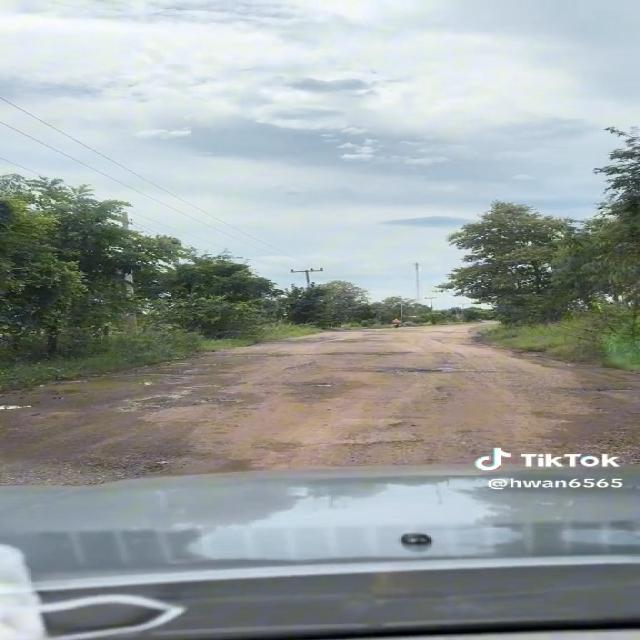Poth-hole: (308, 394, 505, 451)
